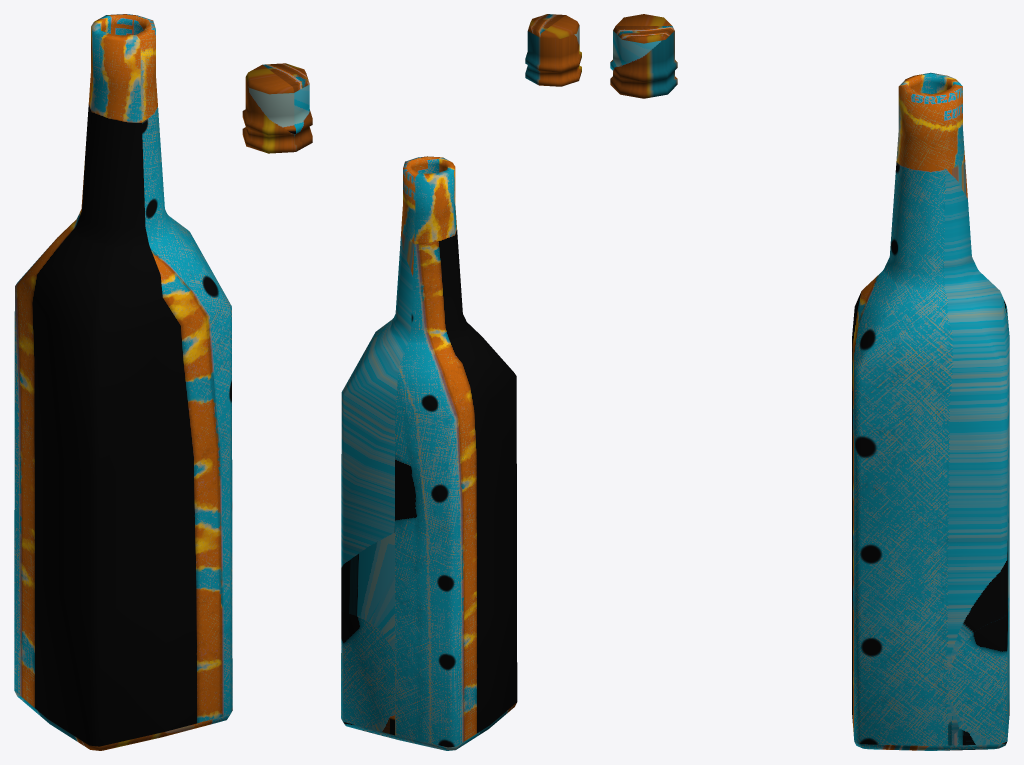
Rendered from SM_WineBottle_Low.fbx.
The picture shows the model from 3 angles, left to right: view 1: azimuth 30°, elevation 25°; view 2: azimuth 150°, elevation 25°; view 3: azimuth 270°, elevation 25°; orthographic projection. The views are drawn at different scales.
Parts seen in each view (by area): view 1: WineBottleLow; view 2: WineBottleLow; view 3: WineBottleLow.
Part boxes in pixels (x1,y1,x2,y2): WineBottleLow: (14,14,312,750); WineBottleLow: (341,14,581,750); WineBottleLow: (610,14,1009,750).
Size of the model in its own units: 5.82 by 14.32 by 27.44.
